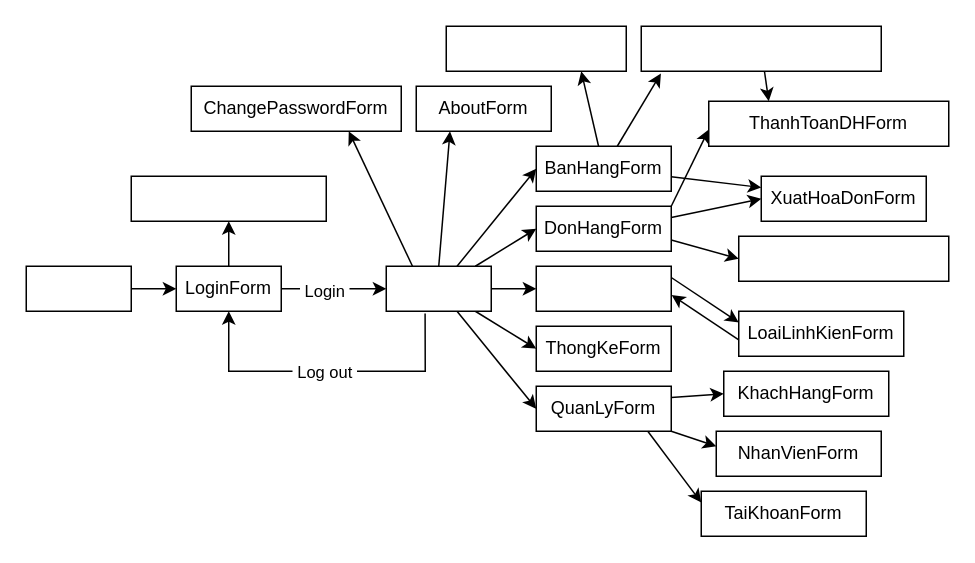
Some shapes in this 975 by 563 pixel diagram are drawn without their labels. The shapes that lost their labels are listed below. From the top down, each one's box as (x1, y1, x2, y2) in pixels, then its label:
(445, 25, 626, 71): ThemLinhKienForm
(640, 25, 881, 71): ChoosePTThanhToanForm
(130, 175, 326, 221): ForgotPasswordForm
(737, 235, 949, 281): ThongTinDonHangForm
(25, 265, 131, 311): InitForm
(385, 265, 491, 311): MainForm
(535, 265, 671, 311): LinhKienForm
